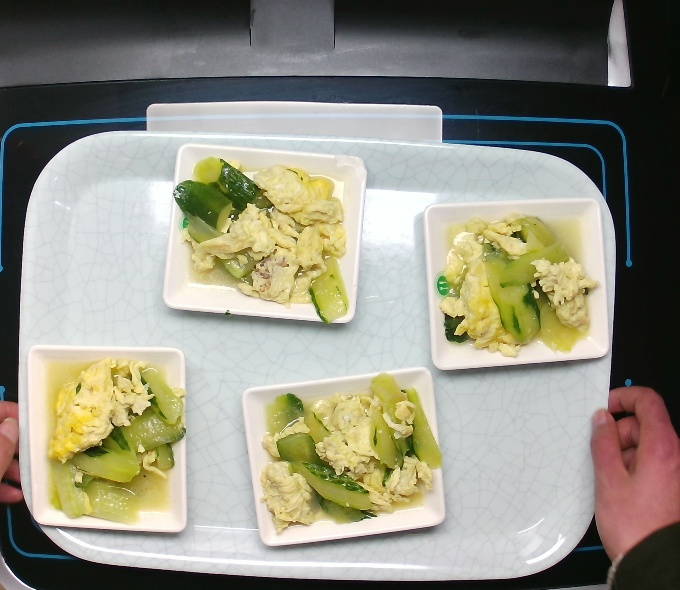wcq-DanHuangHuangGua: (251, 372, 440, 548), (166, 147, 355, 323), (426, 204, 598, 364), (41, 354, 191, 525)
